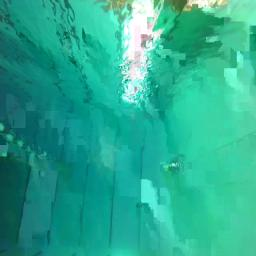Full: (165, 159, 184, 174), (136, 202, 150, 210)
